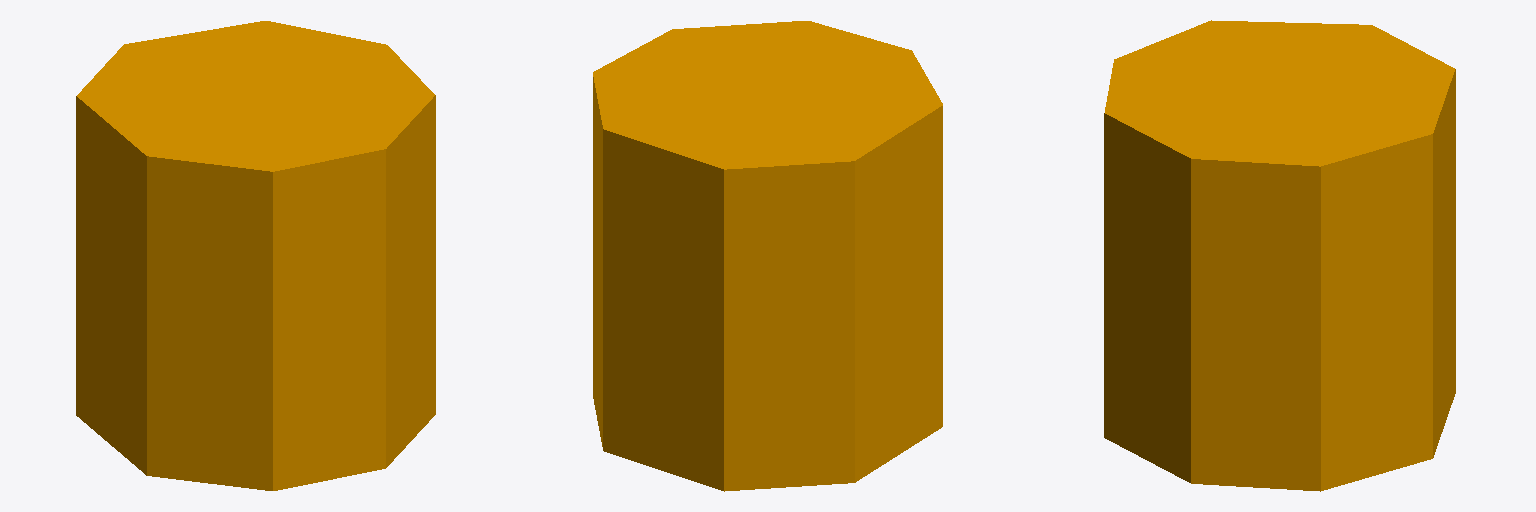
The robot description file, URDF, robot "object":
<?xml version="1.0"?>
<robot name="object">
  <link name="object">
    <visual>
      <origin xyz="0 0 0"/>
      <geometry>
        <mesh filename="meshes/generated/col_050.obj" scale="0.03 0.03 0.03"/>
      </geometry>
    </visual>
    <collision>
      <origin xyz="0 0 0"/>
      <geometry>
        <mesh filename="meshes/generated/col_050.obj" scale="0.03 0.03 0.03"/>
      </geometry>
    </collision>
    <inertial>
      <density value="1000.0"/>
    </inertial>
  </link>
</robot>

--- Facts derived from the render (not from the file) ---
The picture shows the robot from 3 angles, left to right: view 1: azimuth 30°, elevation 25°; view 2: azimuth 150°, elevation 25°; view 3: azimuth 270°, elevation 25°; orthographic projection.
Model object with 1 links and 0 joints (none), rooted at object, posed every joint at zero.
Links seen in each view (by area): view 1: object; view 2: object; view 3: object.
Boxes of the visible links, bbox=[...] form: object: bbox=[76, 21, 435, 490]; object: bbox=[593, 21, 942, 491]; object: bbox=[1104, 20, 1455, 491].
Bounding box of the posed robot: 0.0579 × 0.0588 × 0.06 m (x, y, z).
1 mesh visuals loaded from 1 distinct referenced files (1 OBJ).
